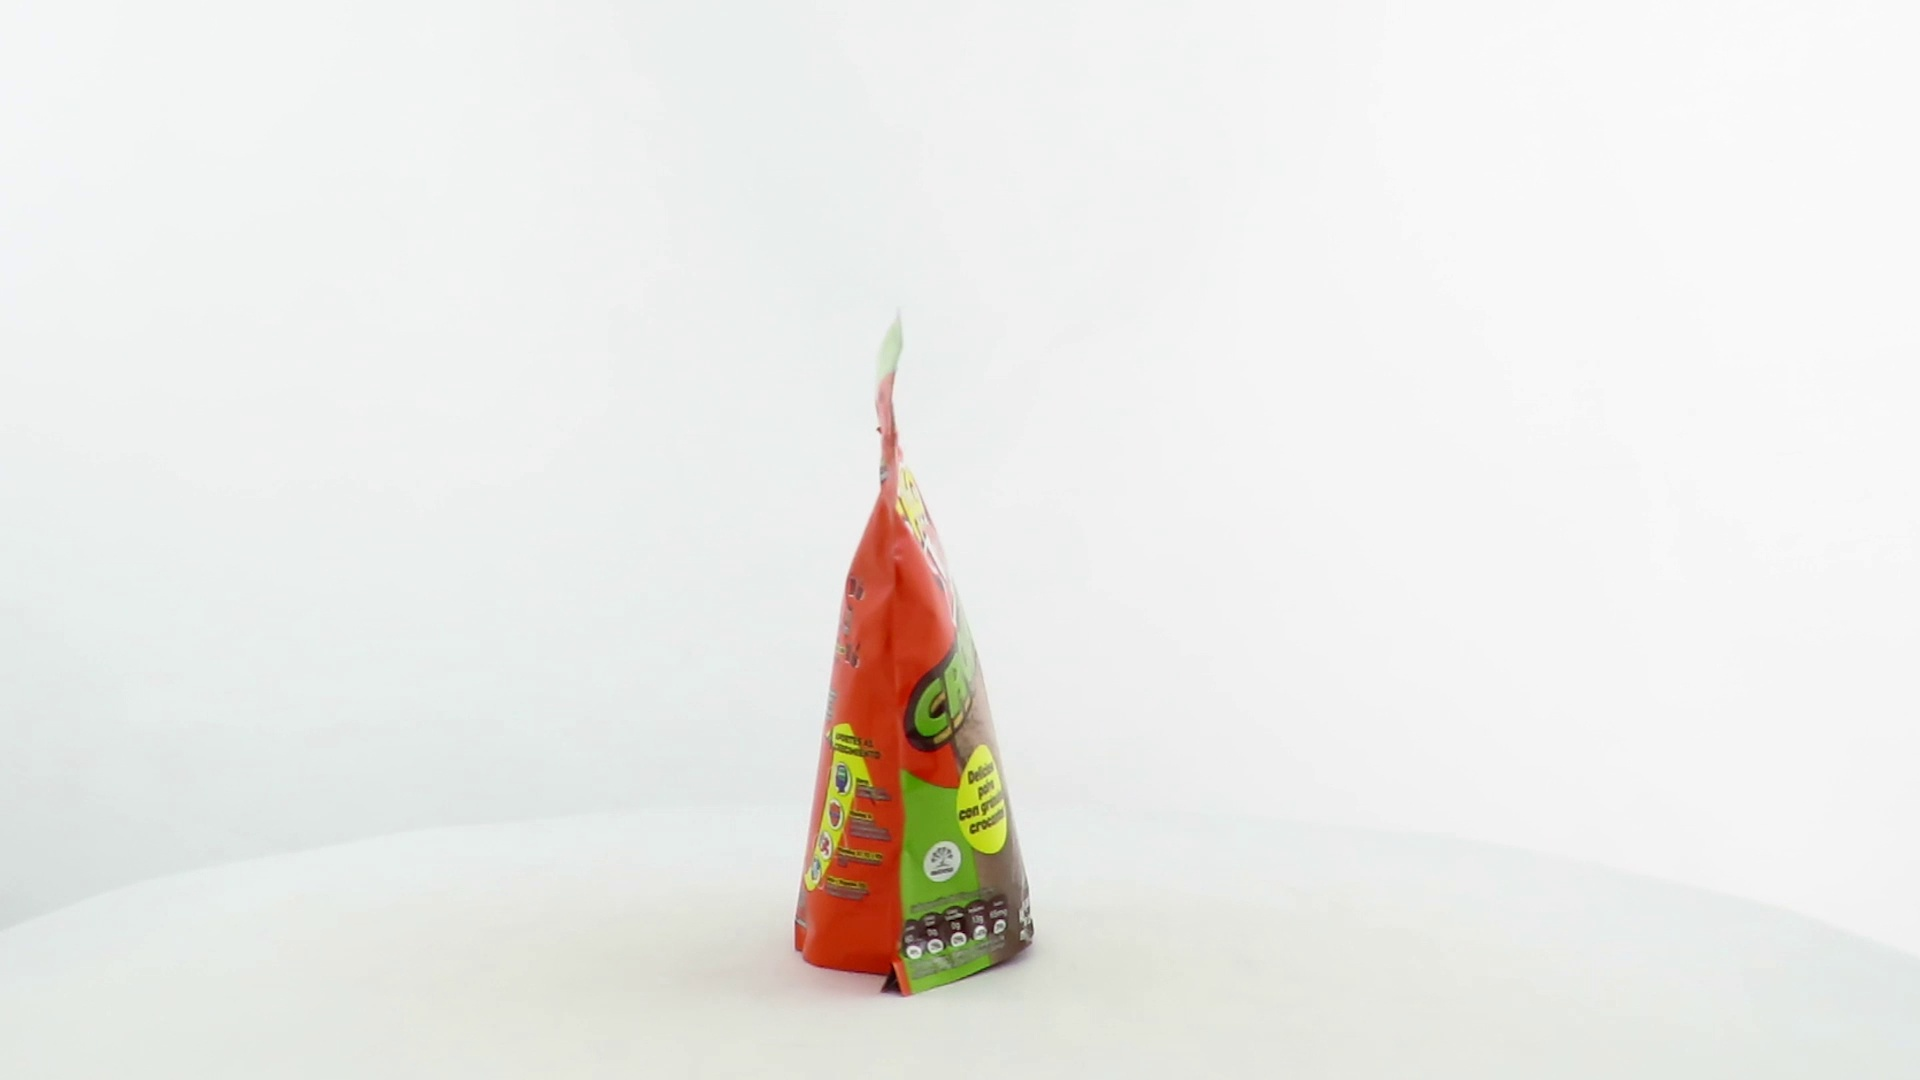COL0170102DYP10000: (789, 301, 1040, 1004)
